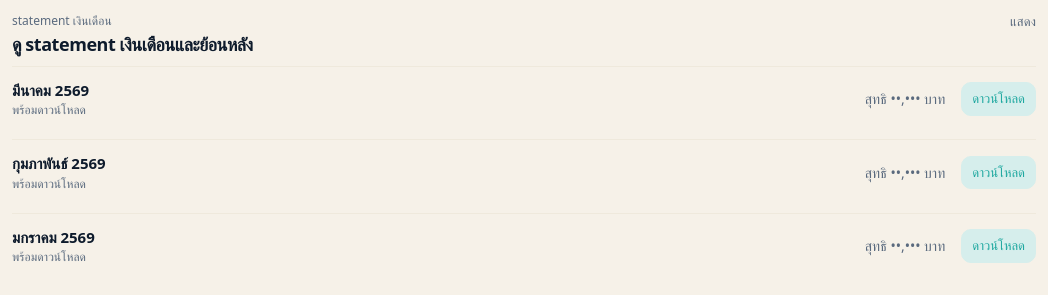
Test: PayStatements (standalone /payslip surface) › masks net pay by default and reveals on toggle (owner self view)
Expected: the element with test id "pay-statements" does not show "48,200"
Step 1. Click the button with test id "payslip-reveal-toggle" → x=1023, y=22, box [1010,12,1036,32]
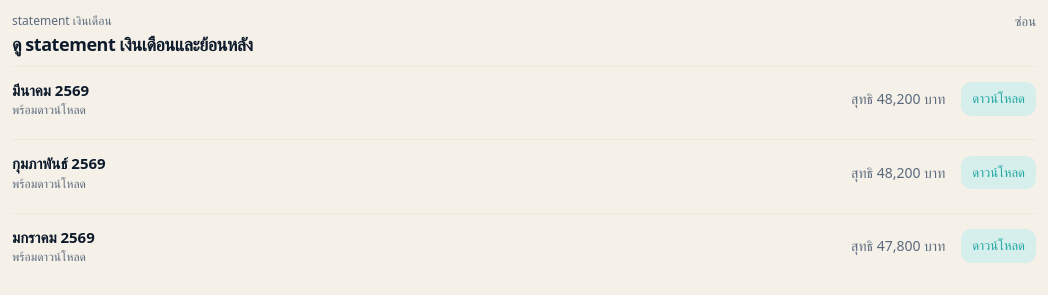
Expected: the element with test id "pay-statements" shows "48,200", [877,89,945,108]
